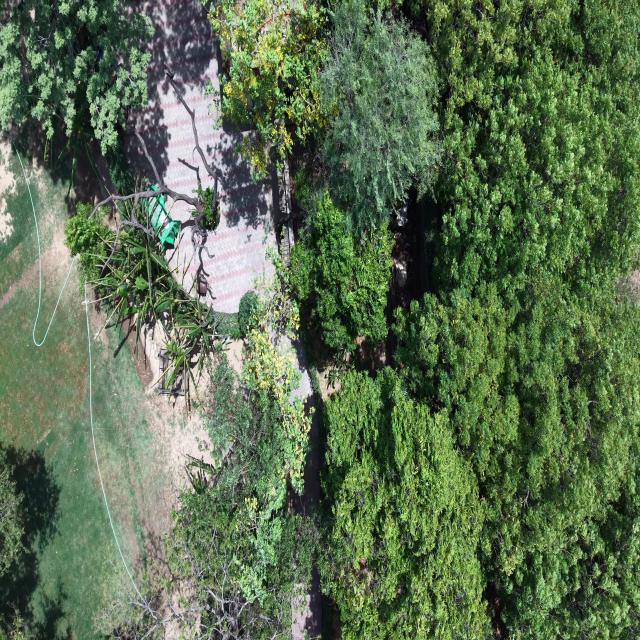DRY_AREA: (0, 144, 121, 638), (0, 145, 121, 638), (131, 0, 275, 311), (135, 0, 278, 311)
VEGETATION_TREE: (67, 0, 639, 639), (290, 2, 639, 638), (394, 2, 639, 638), (396, 2, 639, 638), (396, 280, 639, 638), (102, 275, 317, 638), (414, 0, 639, 308), (65, 66, 237, 392), (291, 0, 440, 351), (168, 322, 317, 638), (320, 368, 488, 639), (65, 199, 236, 386), (321, 0, 440, 234), (0, 0, 152, 157), (169, 478, 317, 639), (210, 0, 325, 172), (135, 63, 220, 272), (243, 256, 312, 507), (291, 192, 392, 350), (255, 247, 300, 340), (65, 203, 114, 287), (0, 448, 25, 576), (0, 449, 23, 575), (105, 139, 135, 194), (196, 184, 220, 231), (238, 291, 258, 337), (0, 612, 27, 639)
WATERBODY: (0, 143, 121, 638)
